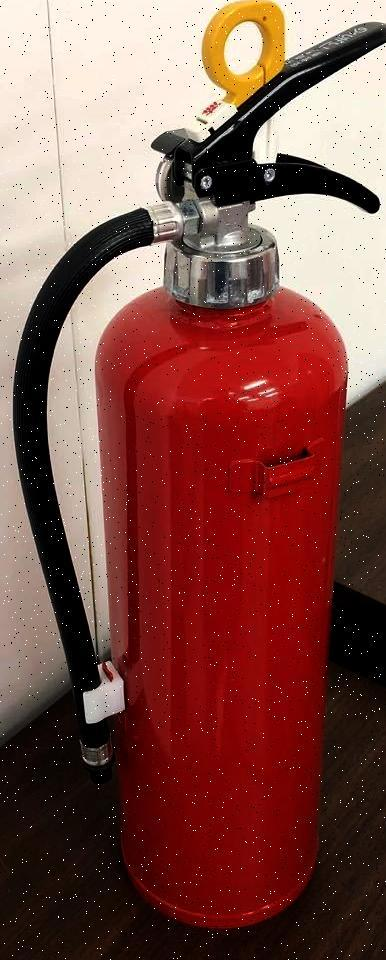Fire Extinguisher: (10, 28, 386, 942)
